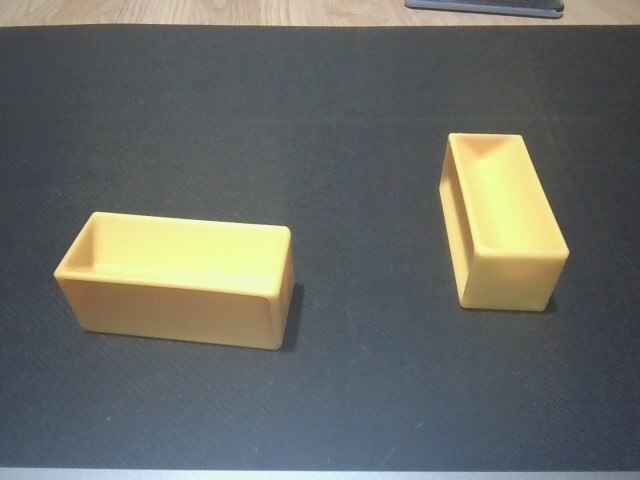YellowSample: (48, 206, 297, 354), (435, 130, 572, 317)
